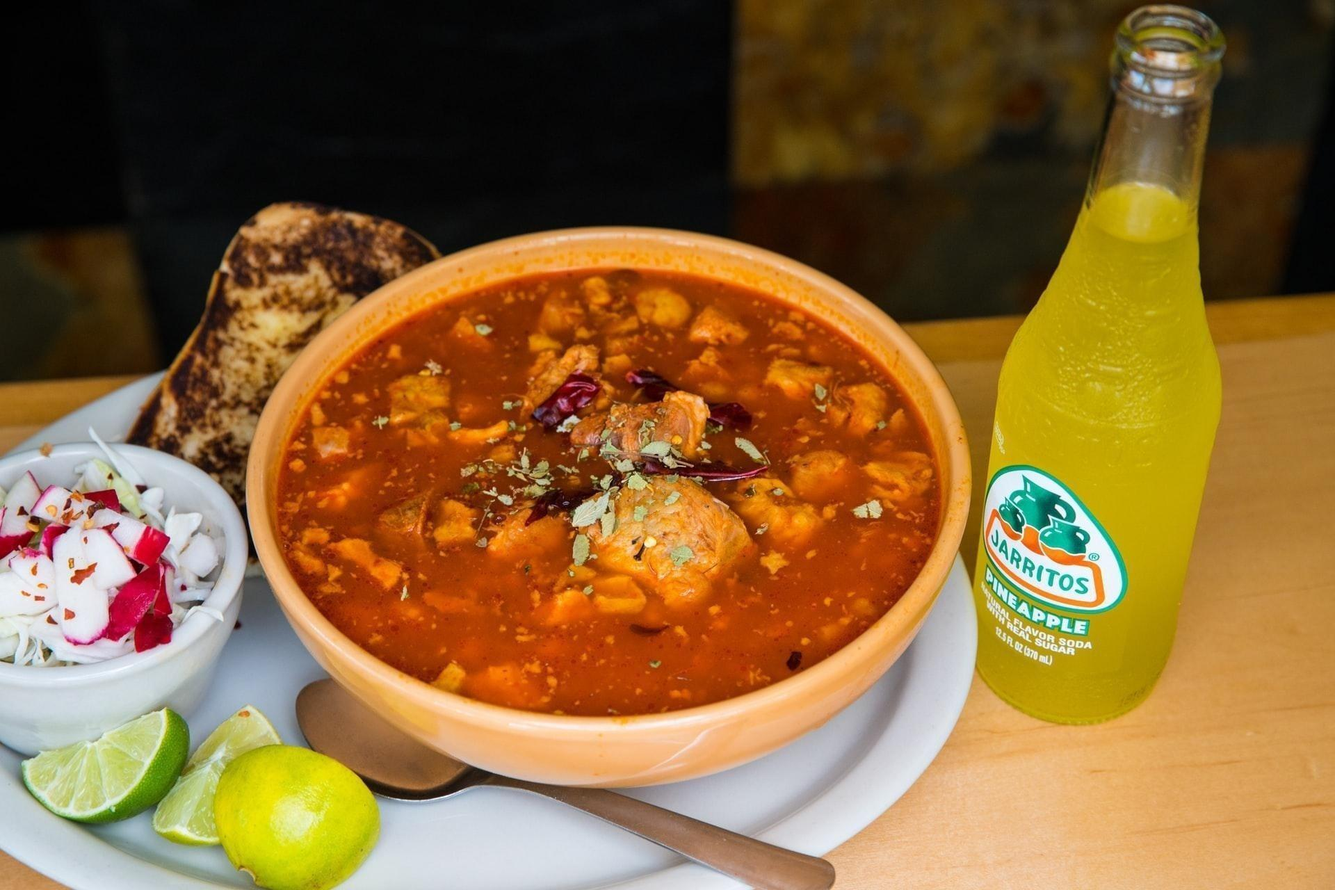bottle-glass: (970, 1, 1230, 727)
